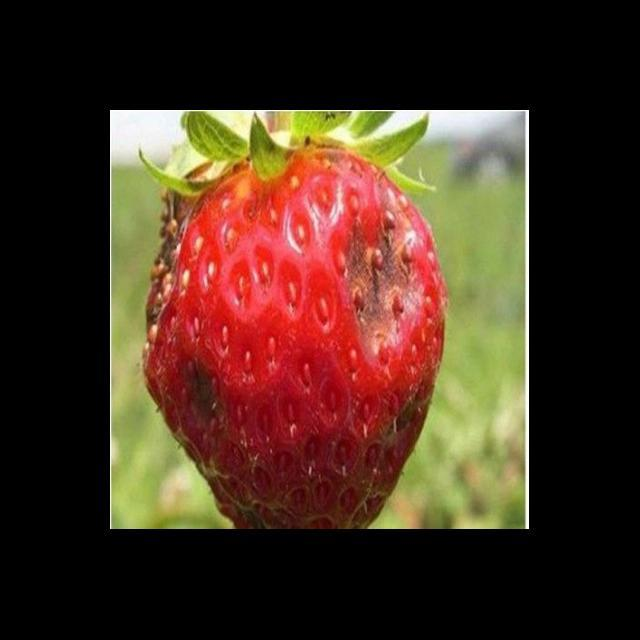Anthracnose Fruit Rot: (140, 150, 430, 443)
